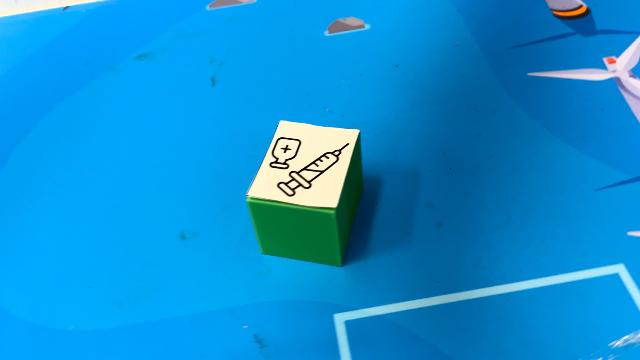syringe: (244, 117, 366, 267)
